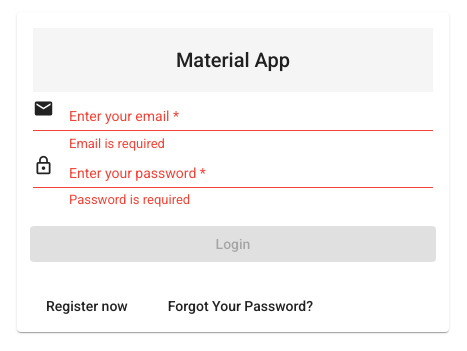
Test case: Test Login functionality › Sign in the user to check valid email validation
Step 1. Type "admin.in" into the field named "email" → (251, 117), box [69, 109, 433, 125]
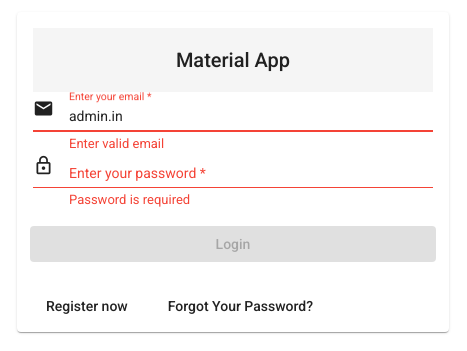
Now the text "Enter valid email" is shown, box [69, 137, 164, 151]
